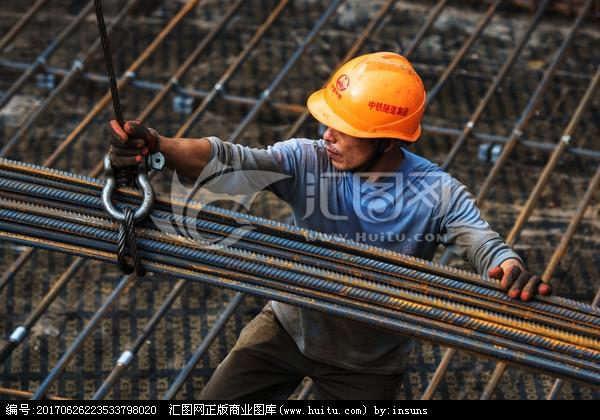helmet: (305, 49, 438, 148), (8, 325, 24, 342), (535, 282, 550, 293)
no_wear: (283, 166, 439, 368)
